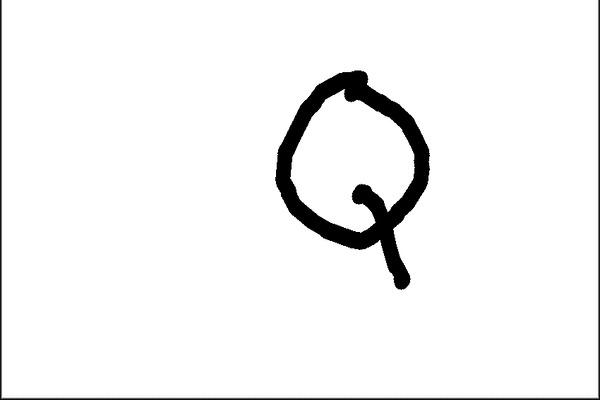Q: (264, 54, 446, 298)
